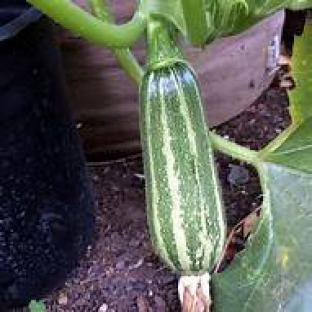Zucchini: (141, 21, 225, 274)
